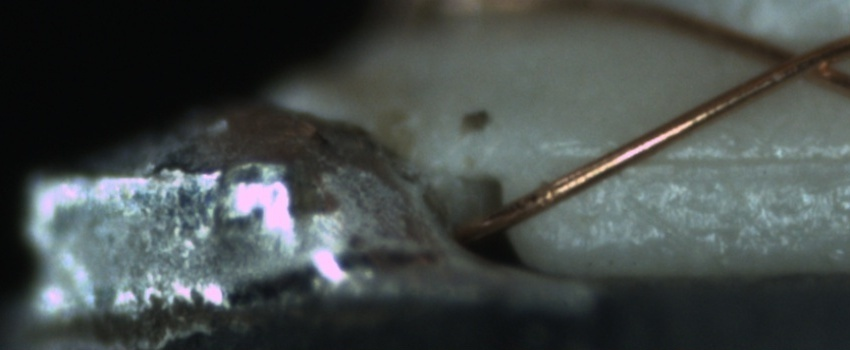CL: (754, 30, 844, 89)
DL: (566, 128, 849, 189)
